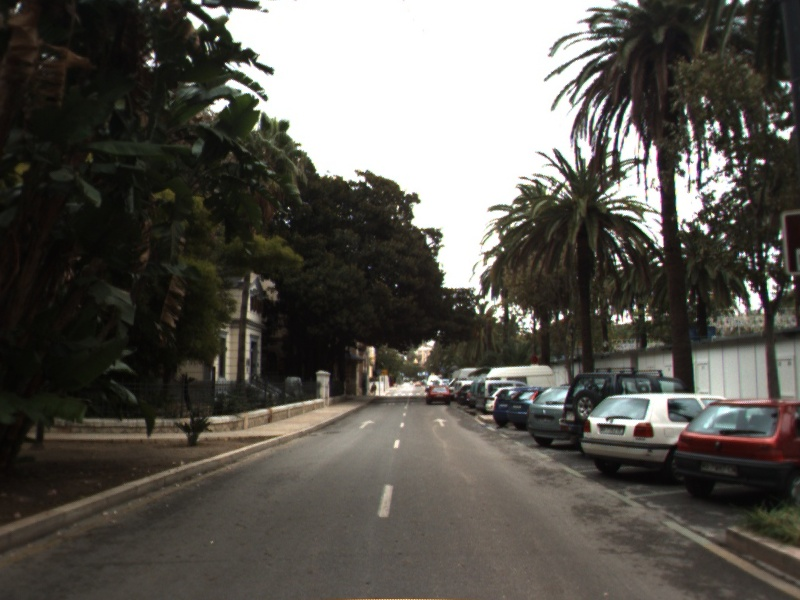STRAIGHT: (430, 416, 451, 429), (356, 418, 377, 431)
